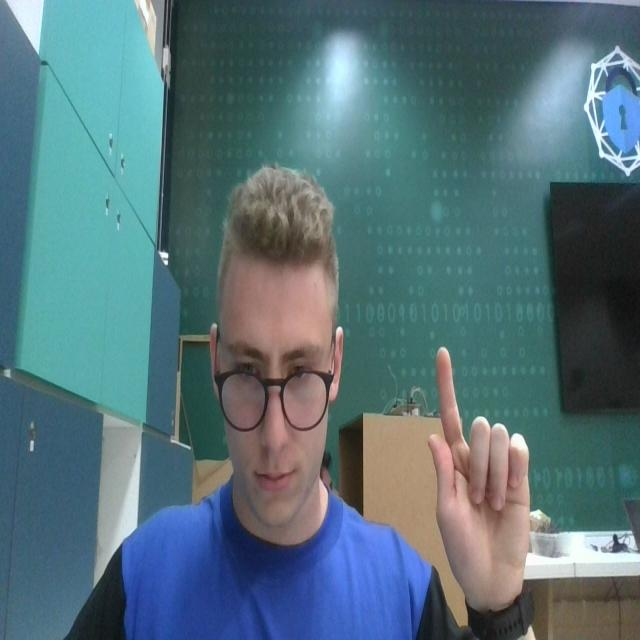G: (427, 342, 533, 604)
